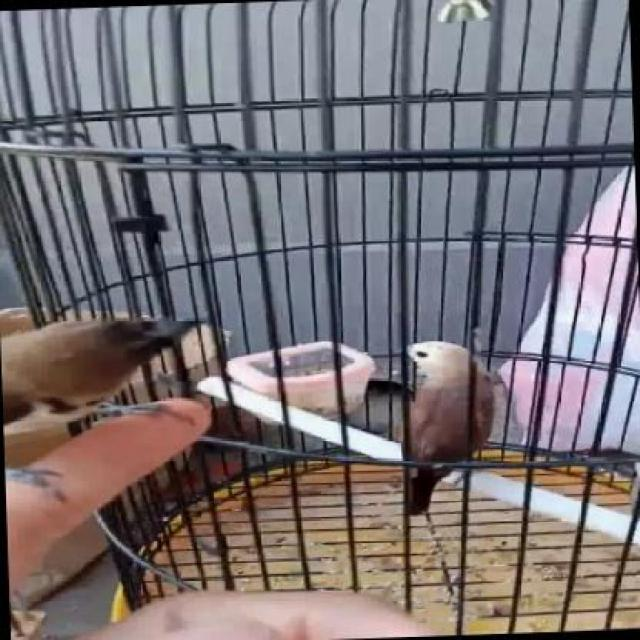Bird: (397, 320, 497, 545)
